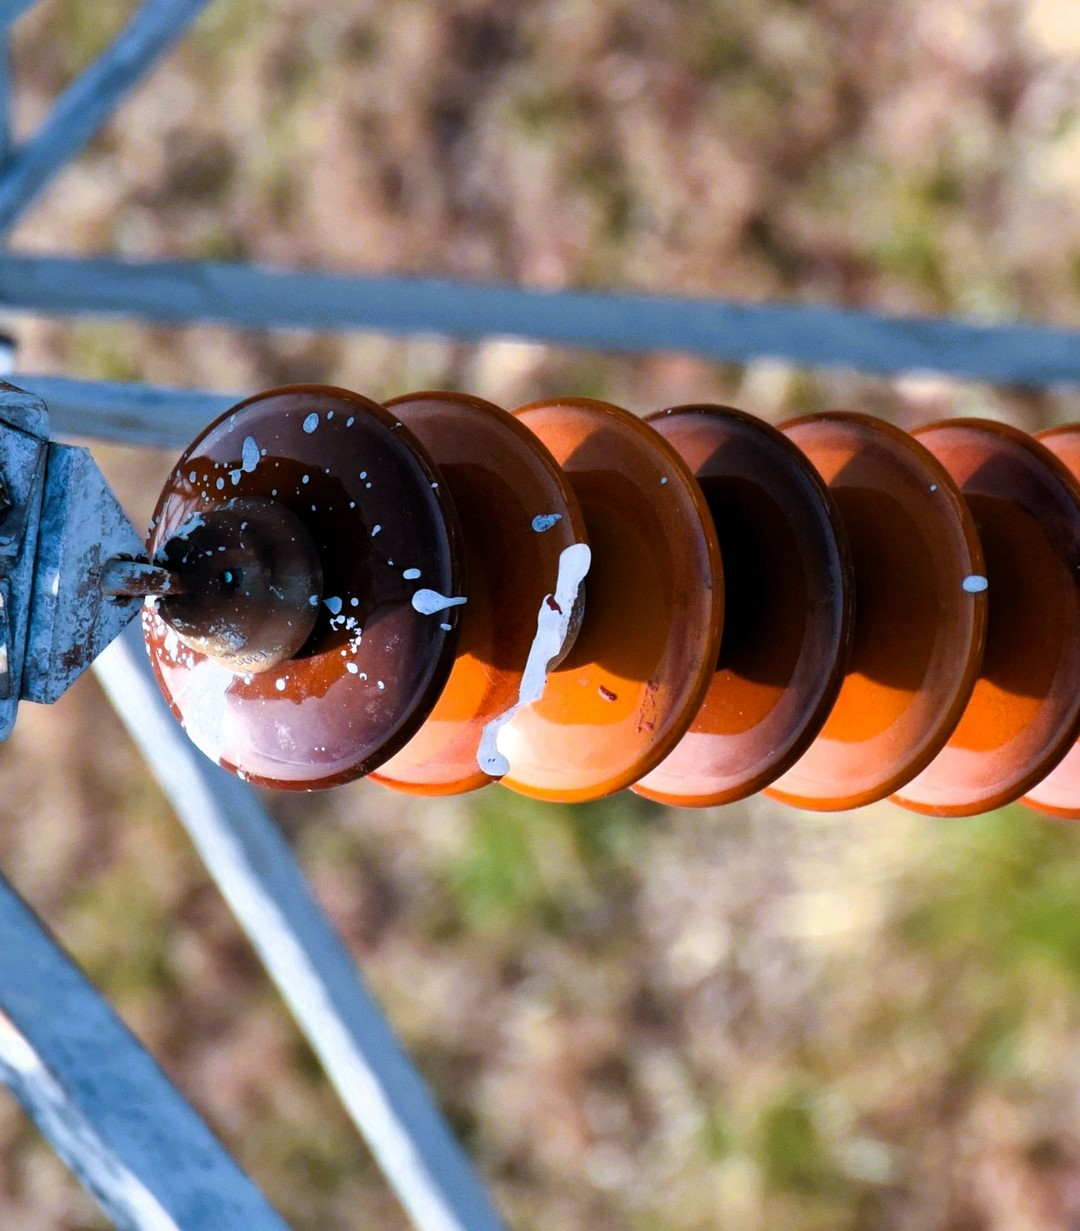insulator breakage: (369, 379, 601, 809)
